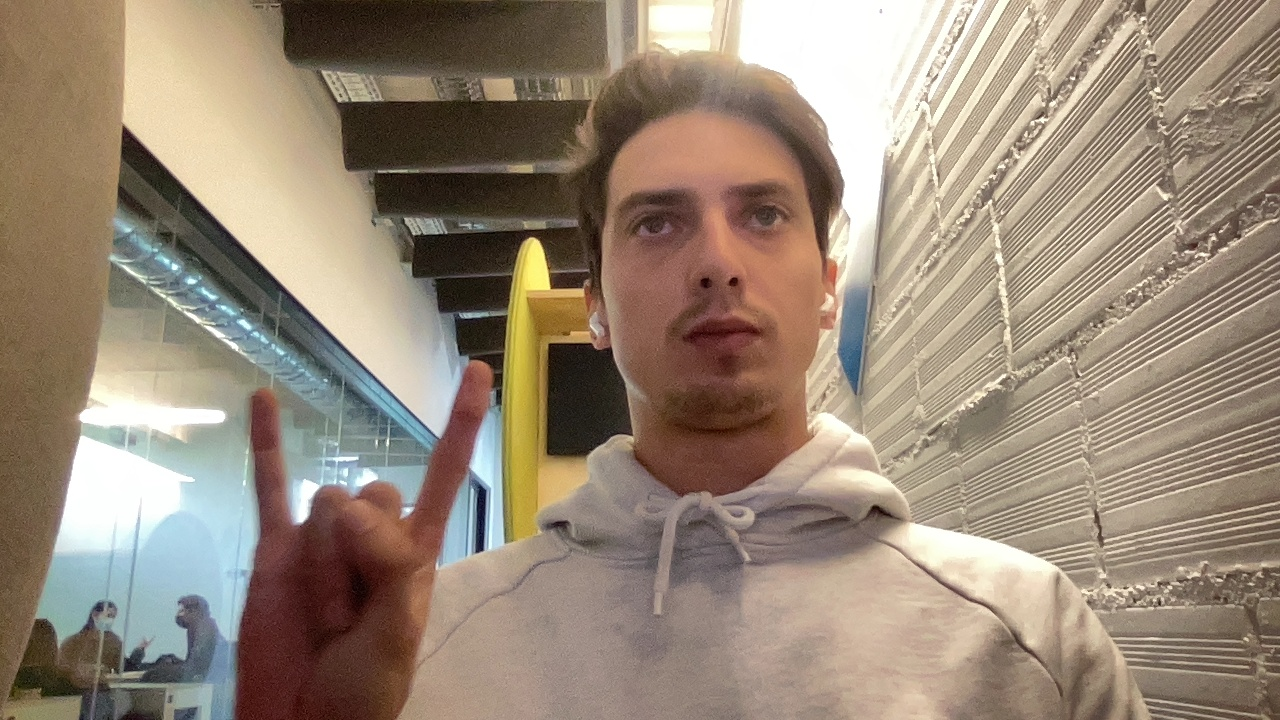iloveyou: (214, 344, 506, 716)
